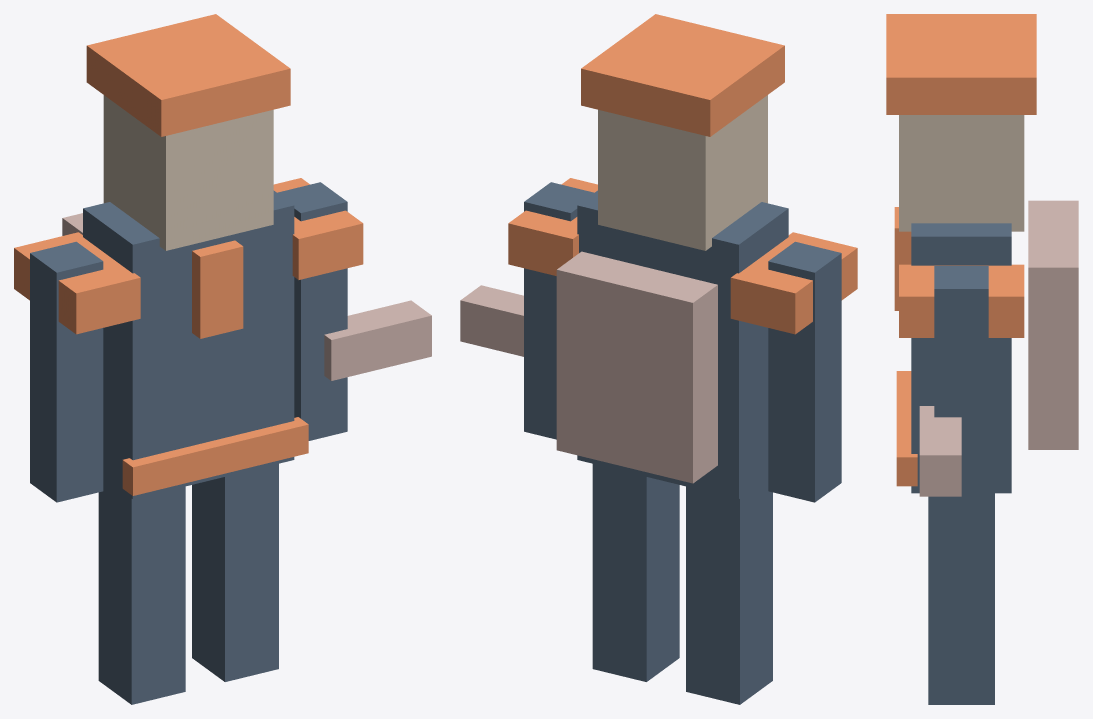
The model's file is 05_maven_spirebound_guide_from_shuttle.glb.
3 renders of one model, left to right at view 1: azimuth 30°, elevation 25°; view 2: azimuth 150°, elevation 25°; view 3: azimuth 270°, elevation 25°, orthographic.
Visible parts, largest first — view 1: Maven Spirebound, Guide from Shuttle; view 2: Maven Spirebound, Guide from Shuttle; view 3: Maven Spirebound, Guide from Shuttle.
Part boxes in pixels (x1=…): Maven Spirebound, Guide from Shuttle: x1=14, y1=14, x2=431, y2=704; Maven Spirebound, Guide from Shuttle: x1=460, y1=14, x2=857, y2=704; Maven Spirebound, Guide from Shuttle: x1=886, y1=14, x2=1078, y2=704.
Bounding box in the file's own units: 0.9574 × 1.54 × 0.4297.
